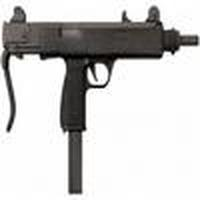gun: (1, 7, 200, 144)
